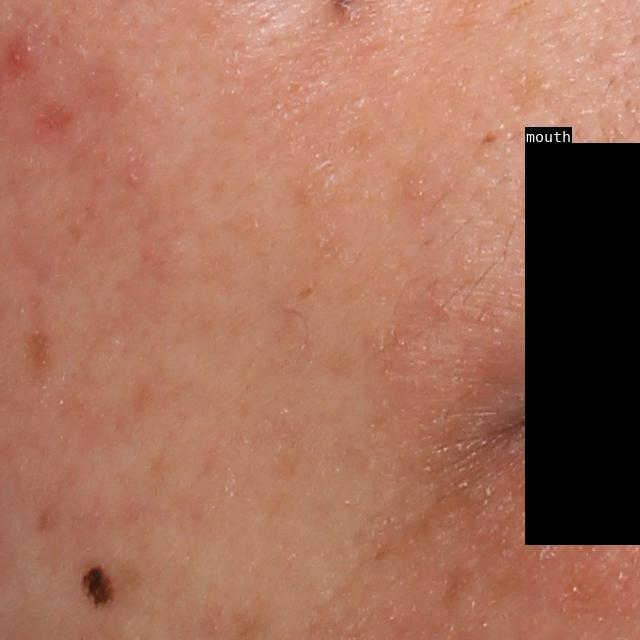nevus: (71, 563, 120, 614)
